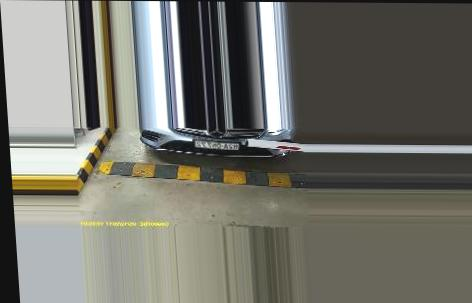License_Plate: (190, 139, 242, 154)
